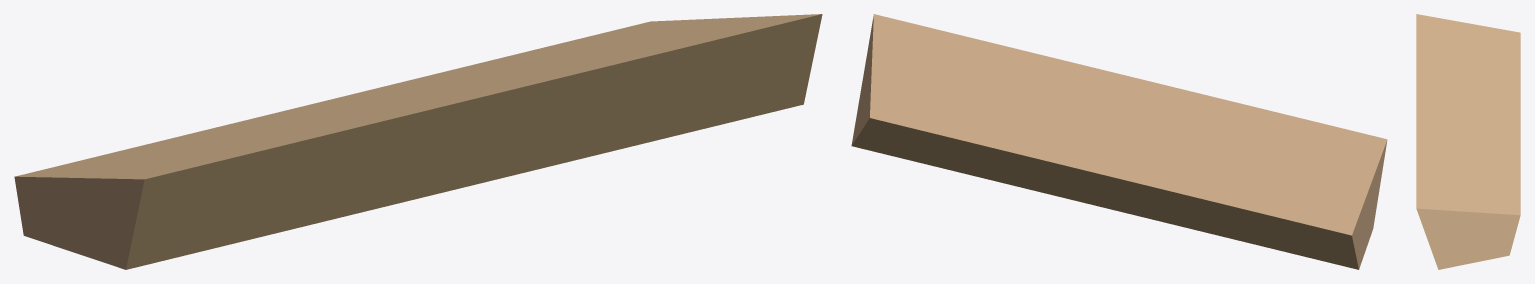
The model's file is Acacia_Firewood_05_LOD.fbx.
3 renders of one model, left to right at view 1: azimuth 30°, elevation 25°; view 2: azimuth 150°, elevation 25°; view 3: azimuth 270°, elevation 25°, orthographic. The views are drawn at different scales.
Visible parts, largest first — view 1: Acacia_Firewood_05_LOD0; view 2: Acacia_Firewood_05_LOD0; view 3: Acacia_Firewood_05_LOD0.
Boxes of the visible parts, box(x1,y1,x2,y2) form: Acacia_Firewood_05_LOD0: box(14, 14, 822, 269); Acacia_Firewood_05_LOD0: box(851, 14, 1387, 269); Acacia_Firewood_05_LOD0: box(1416, 14, 1520, 269).
Size of what is drawn, in the model's own units: 56 by 7.76 by 11.95.
